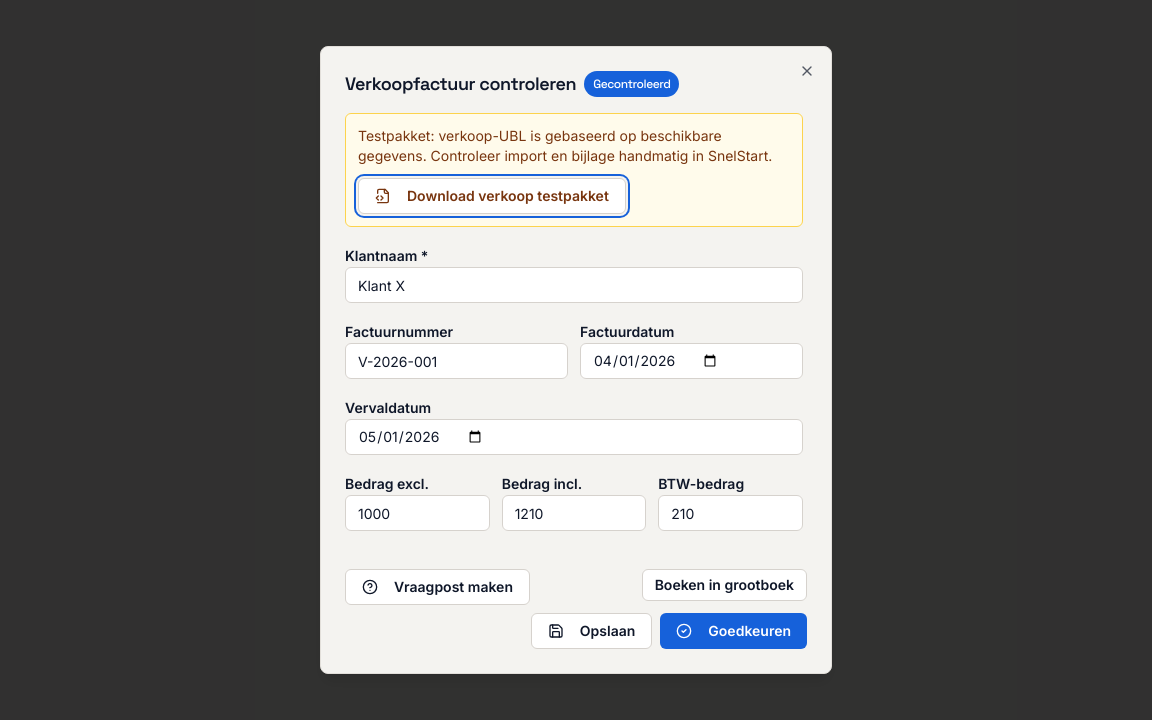
Verkoopfactuur — dirty-check vóór boeken (P1-fix) › dirty invoice_date: boeken-knop is disabled
expect the button with test id "sales-posting-button" is enabled: met, box [642,569,807,601]
In the date field below "Factuurdatum": (692, 361) [580,343,803,379], type "2026-04-15"
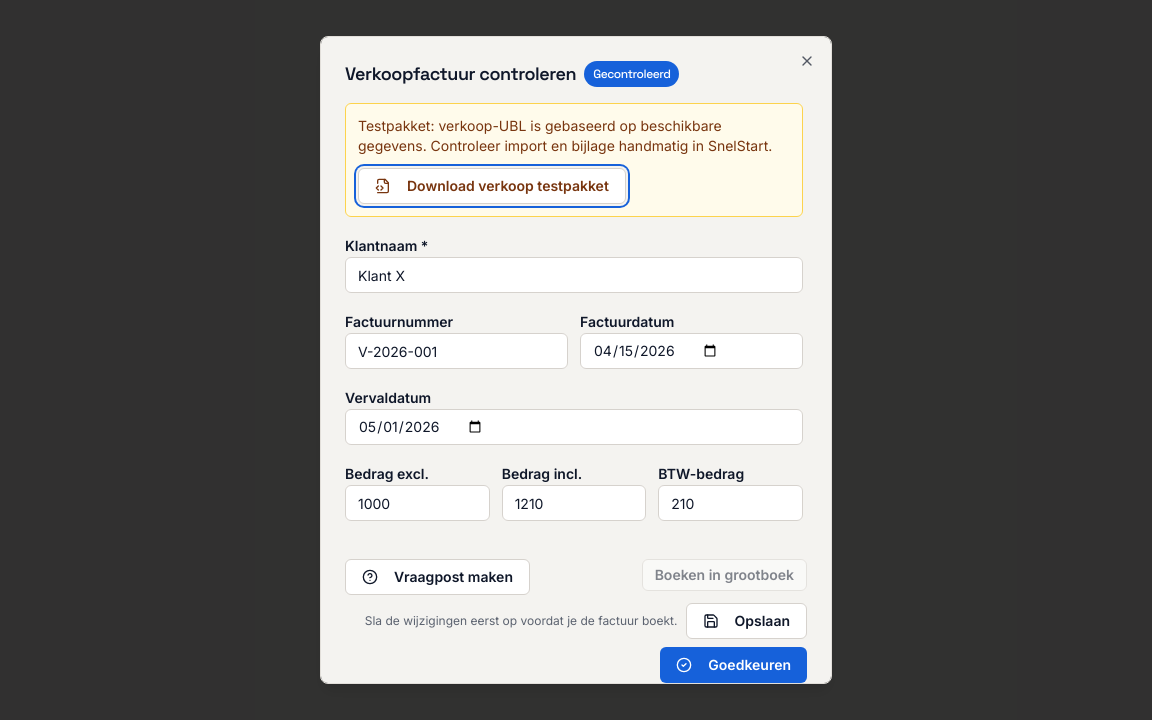
expect the button with test id "sales-posting-button" is disabled: met, box [642,559,807,591]
expect the text "Sla de wijzigingen eerst op voordat je de factuur boekt." is shown: met, box [365,613,678,629]
